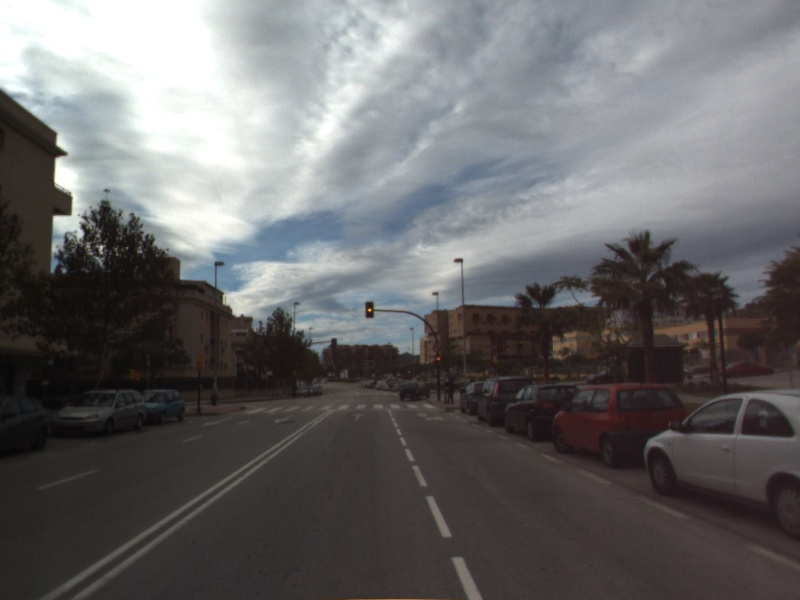STRAIGHT: (349, 411, 368, 423)
STRAIGHT_RIGHT: (414, 411, 447, 423)
